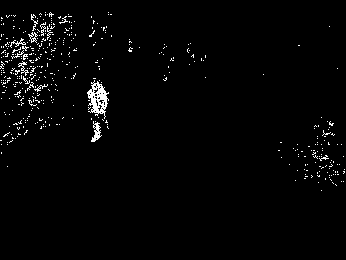person: (82, 75, 111, 147)
